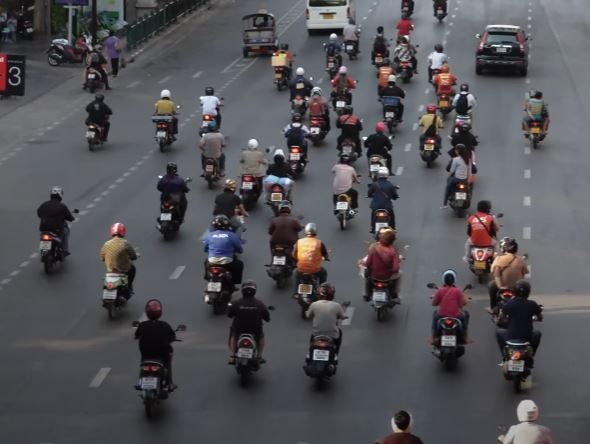Bus: (304, 1, 353, 36)
Car: (475, 23, 532, 77)
Motorcycle: (493, 279, 545, 394), (134, 299, 186, 412), (226, 279, 277, 384), (303, 282, 351, 390), (197, 213, 247, 316), (427, 269, 476, 373), (357, 226, 410, 322), (99, 220, 142, 322), (289, 219, 334, 311), (36, 185, 80, 277), (266, 201, 306, 289), (463, 199, 503, 284), (488, 237, 530, 317), (154, 161, 192, 242), (329, 152, 364, 230), (367, 166, 403, 238), (263, 148, 297, 214), (237, 137, 267, 210), (447, 144, 477, 215), (198, 122, 229, 189), (82, 92, 114, 155), (153, 88, 184, 151), (214, 178, 247, 237), (521, 88, 552, 149), (282, 112, 312, 175), (333, 105, 364, 162), (416, 102, 444, 165), (378, 74, 408, 131), (302, 84, 330, 143), (365, 122, 393, 180), (329, 63, 359, 114), (198, 87, 225, 139), (452, 82, 478, 134), (82, 43, 109, 92), (290, 67, 314, 122), (434, 64, 459, 116), (393, 33, 420, 78), (321, 31, 345, 78), (271, 42, 294, 91), (426, 42, 451, 84), (343, 17, 364, 65), (369, 26, 393, 67), (377, 59, 397, 104), (395, 10, 415, 47), (430, 1, 449, 22)
TukTuk: (240, 8, 279, 57)
